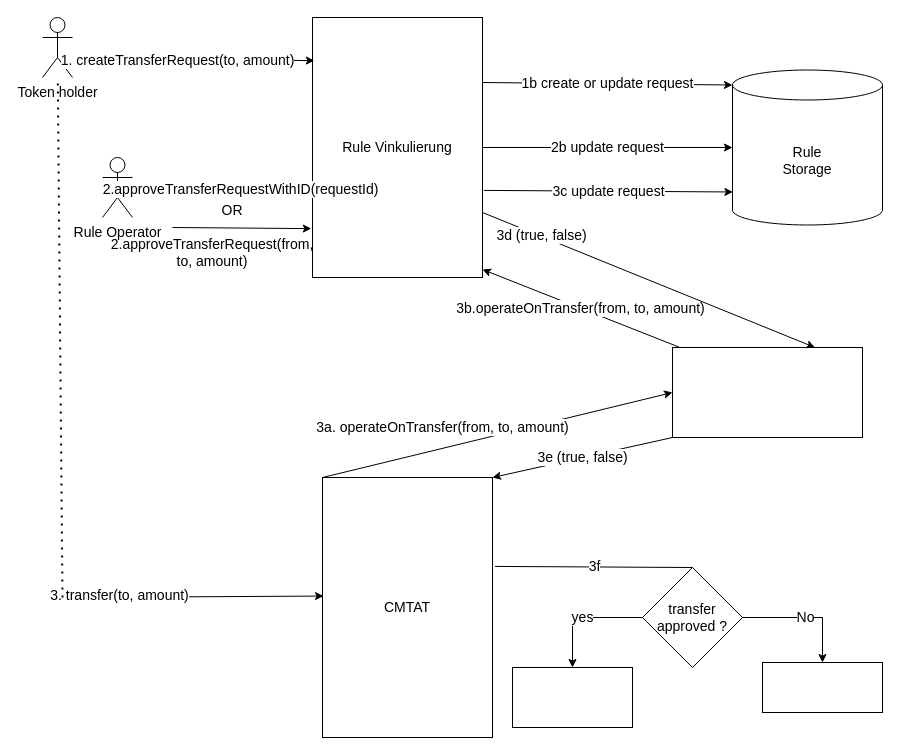
The diagram is 900 pixels wide and 755 high, and some of its shapes have lost their labels. Each missing label, with the centre of its shape:
"generate an error" belongs at pixel 822 687.
"perform transfer" belongs at pixel 572 697.
"RuleEngine" belongs at pixel 767 392.
